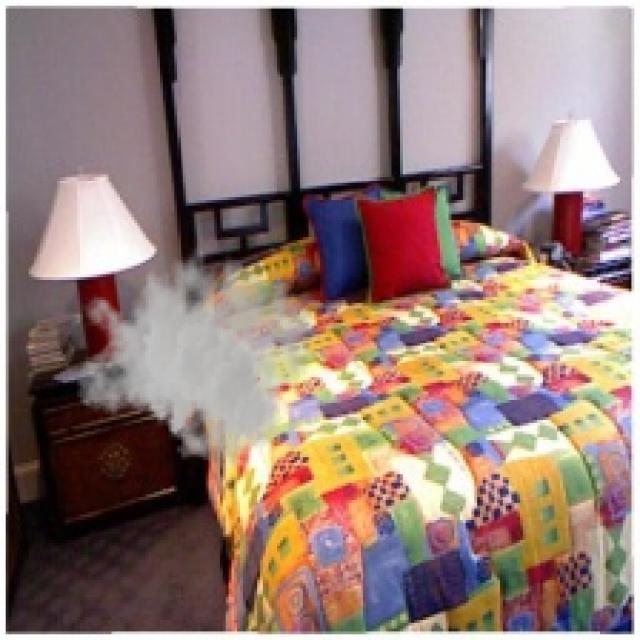smoke: (74, 232, 314, 468)
